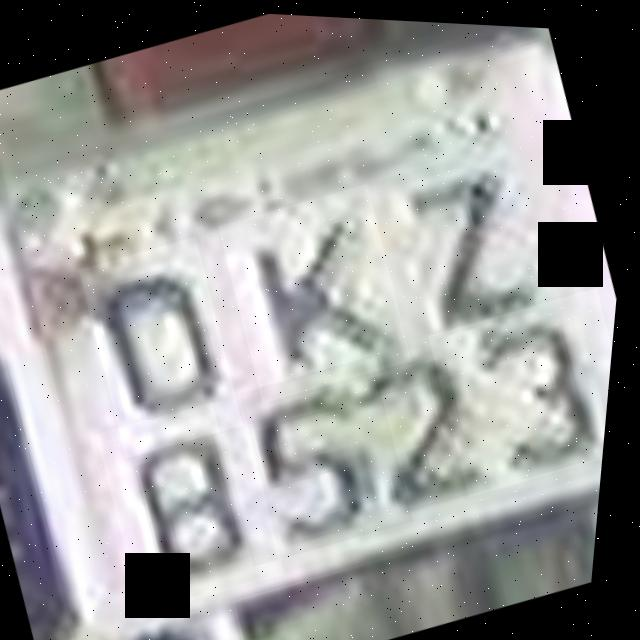3: (422, 274, 622, 496)
5: (208, 345, 434, 569)
8: (91, 384, 307, 618)
N: (210, 173, 430, 405)
O: (71, 229, 264, 460)
Z: (362, 134, 558, 341)
